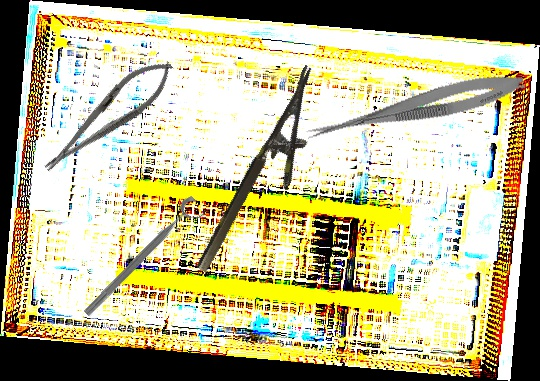Fixation Ring: (79, 194, 209, 326)
Micro Scissor: (303, 64, 528, 154)
Needle Holder: (194, 64, 344, 288), (33, 48, 183, 184)
